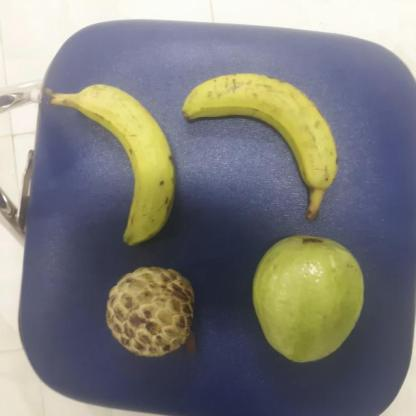annona: (105, 261, 196, 361)
banana: (70, 75, 176, 250), (183, 71, 340, 187)
guava: (248, 233, 368, 364)
